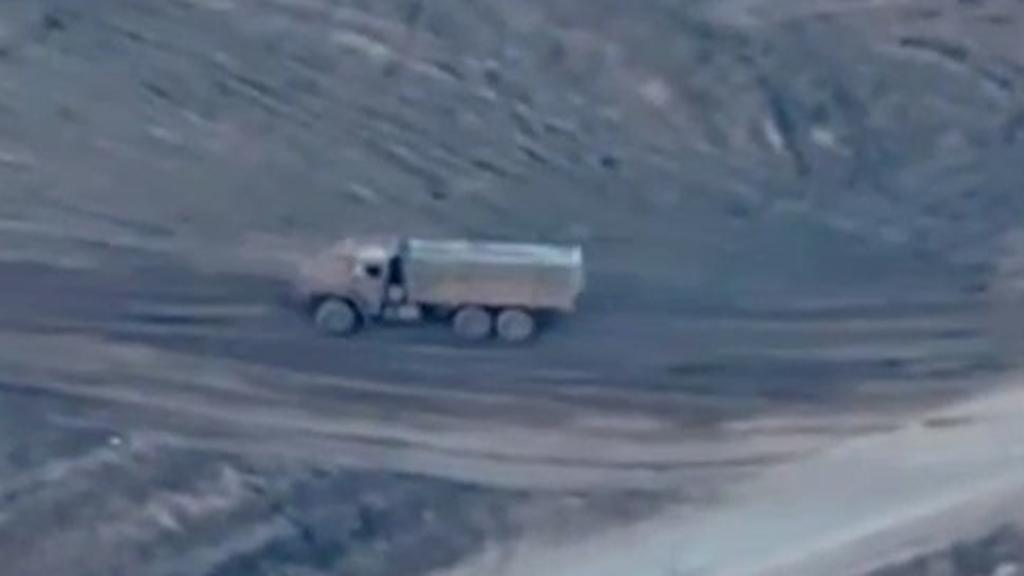TRUCK: (292, 230, 588, 346)
